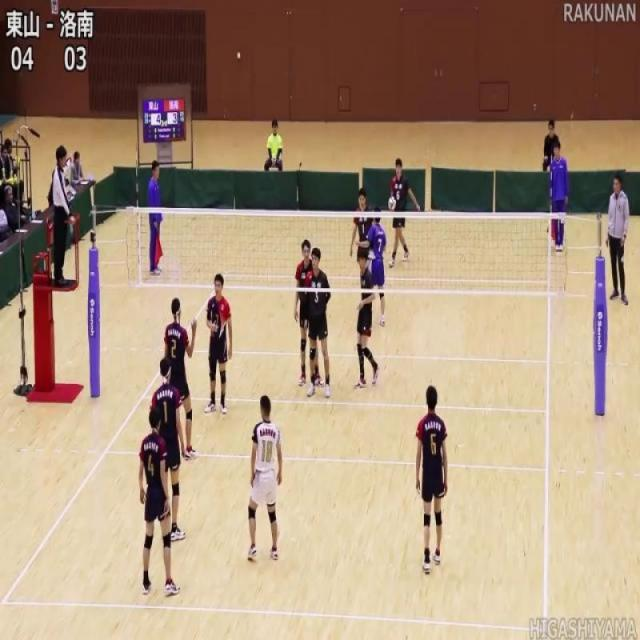volleyball: (387, 194, 397, 212)
